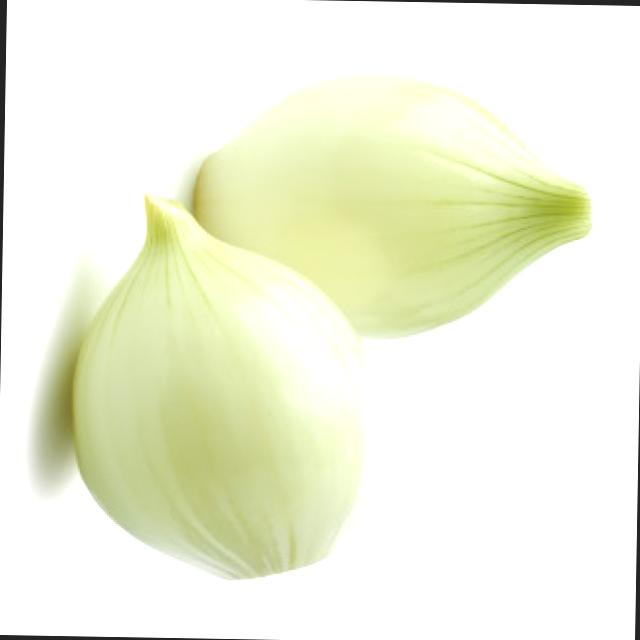onion: (42, 189, 400, 596), (212, 77, 602, 289)
